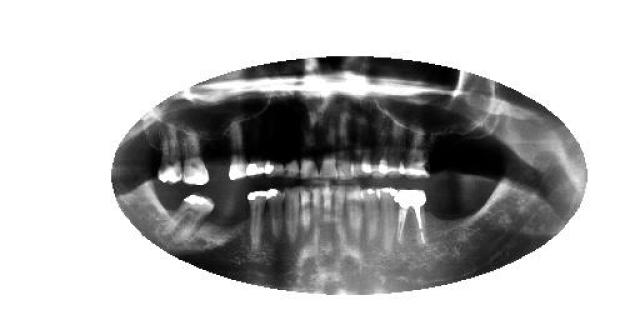Fillings: (170, 191, 215, 241), (378, 186, 397, 254), (246, 190, 269, 245), (265, 186, 286, 242), (361, 185, 380, 237), (245, 158, 265, 178), (265, 159, 275, 179)
Implant: (394, 186, 435, 245)
